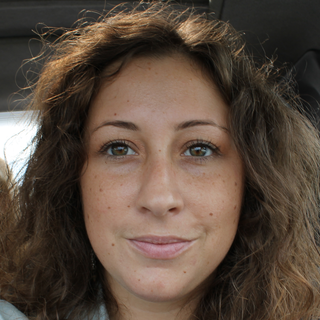eye: (175, 136, 224, 164), (96, 136, 142, 164)
